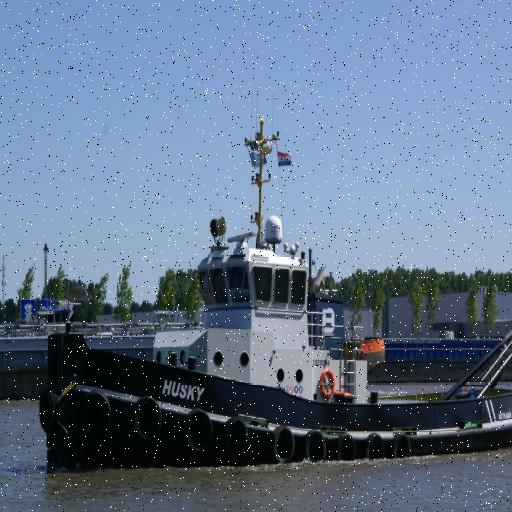tugboat: (36, 85, 512, 489)
